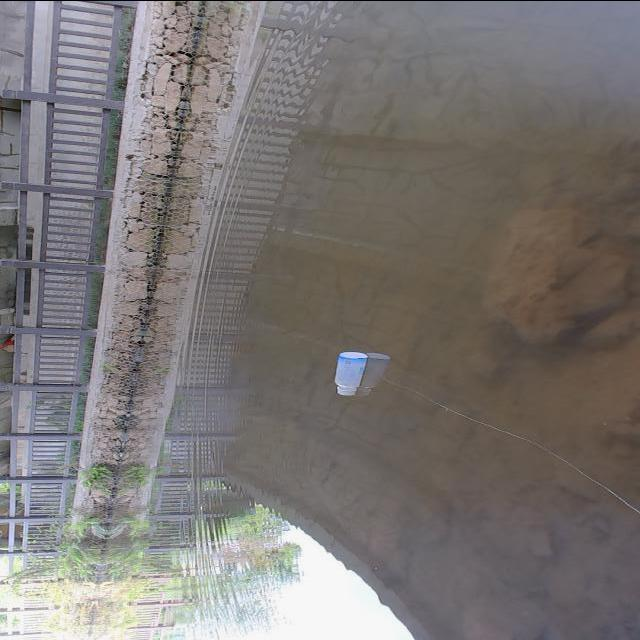bottle: (314, 336, 384, 406)
